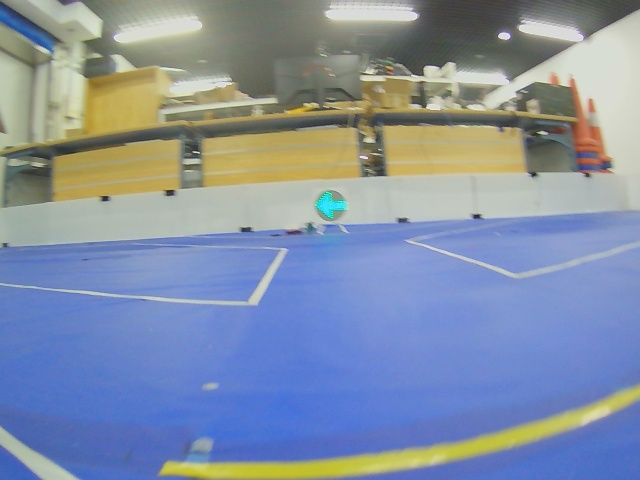left_green: (315, 190, 348, 221)
